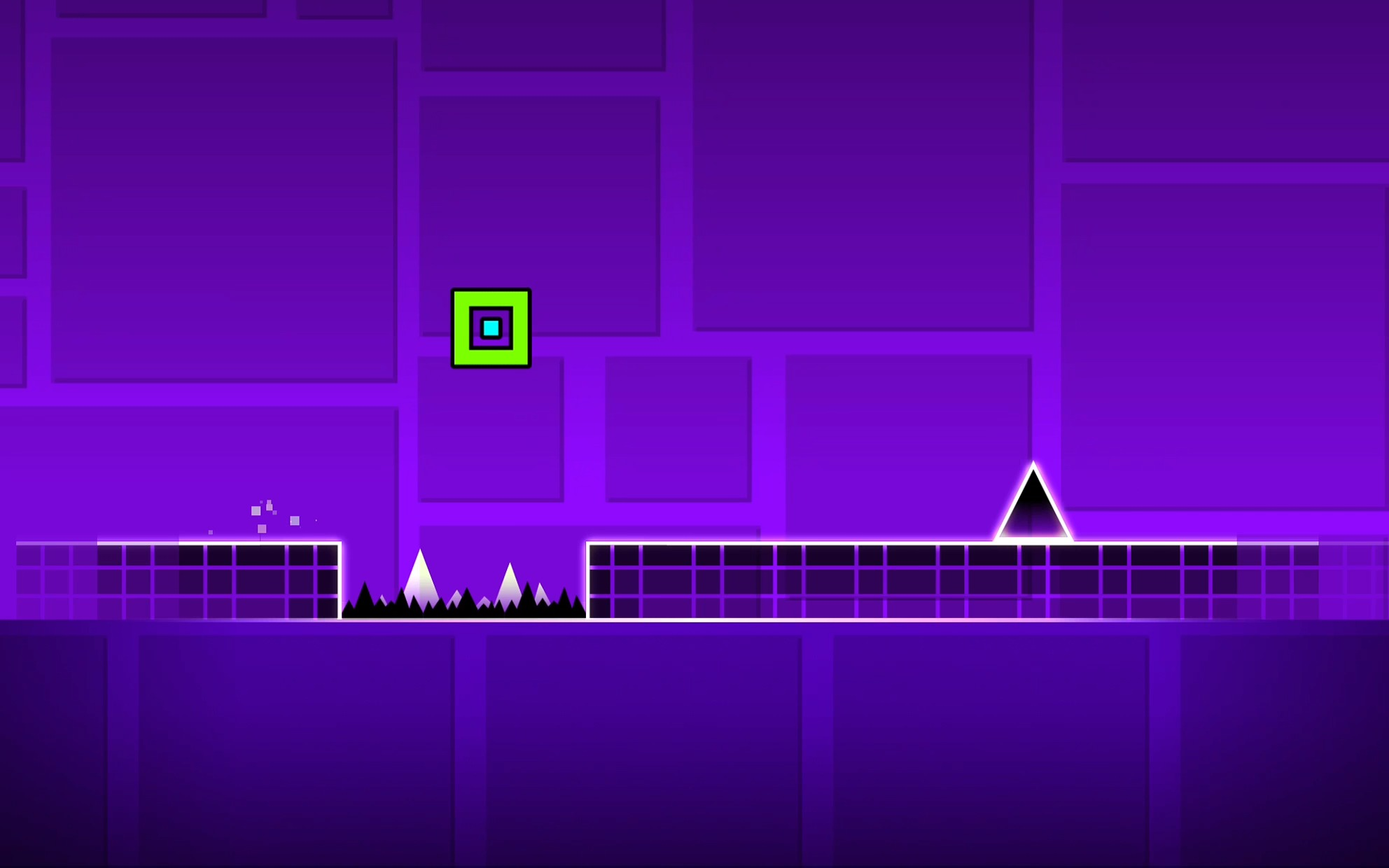Block2: (589, 540, 1383, 616), (8, 542, 342, 617)
Player: (450, 289, 531, 368)
Spike: (995, 463, 1071, 539)
Spike3: (344, 583, 588, 623)
